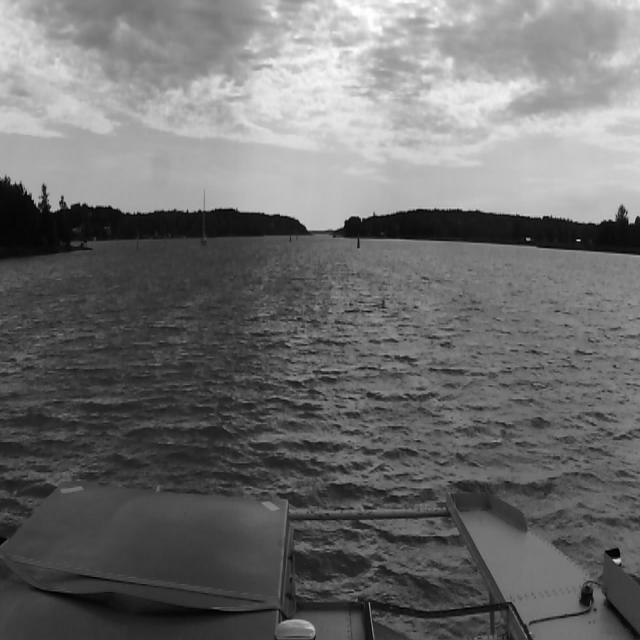buoy: (286, 225, 294, 248), (293, 222, 299, 244), (356, 231, 359, 250)
ship: (201, 188, 208, 248)
